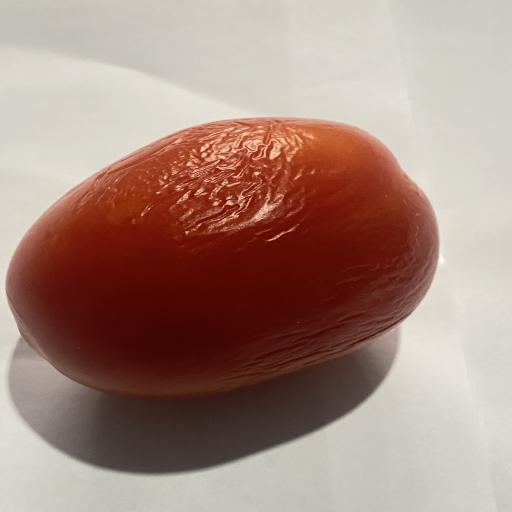spoiled: (7, 118, 439, 398)
